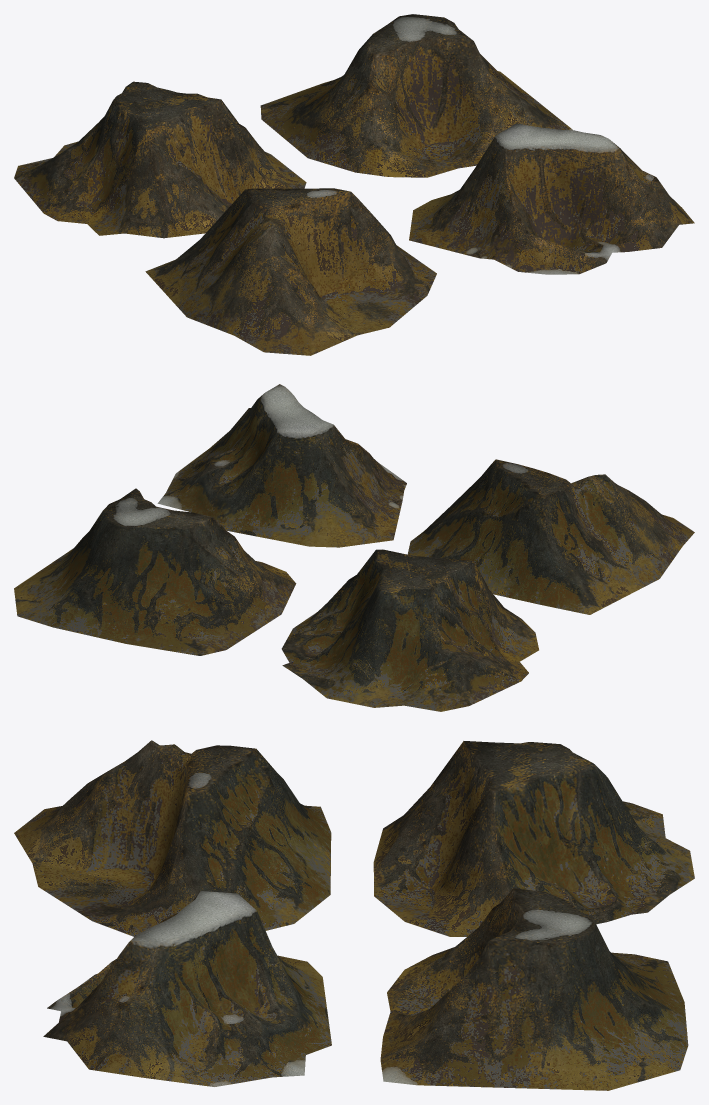
Rendered from background_mountains.glb.
3 renders of one model, top to bottom at view 1: azimuth 30°, elevation 25°; view 2: azimuth 150°, elevation 25°; view 3: azimuth 270°, elevation 25°, orthographic. The views are drawn at different scales.
Parts seen in each view (by area): view 1: mountain2, mountain3, mountain1, mountain4; view 2: mountain4, mountain3, mountain2, mountain1; view 3: mountain3, mountain2, mountain4, mountain1.
Boxes of the visible parts, x1,y1,x2,y2 form: mountain2: [145, 188, 436, 355]; mountain3: [260, 14, 572, 177]; mountain1: [409, 123, 694, 274]; mountain4: [14, 81, 306, 238]; mountain4: [281, 549, 538, 711]; mountain3: [14, 488, 296, 655]; mountain2: [407, 459, 694, 614]; mountain1: [157, 384, 406, 547]; mountain3: [380, 888, 688, 1090]; mountain2: [14, 740, 331, 936]; mountain4: [373, 741, 694, 936]; mountain1: [43, 891, 331, 1086].
Size of the model in its own units: 22199 by 3749 by 21940.
1 material, 1 textured.
